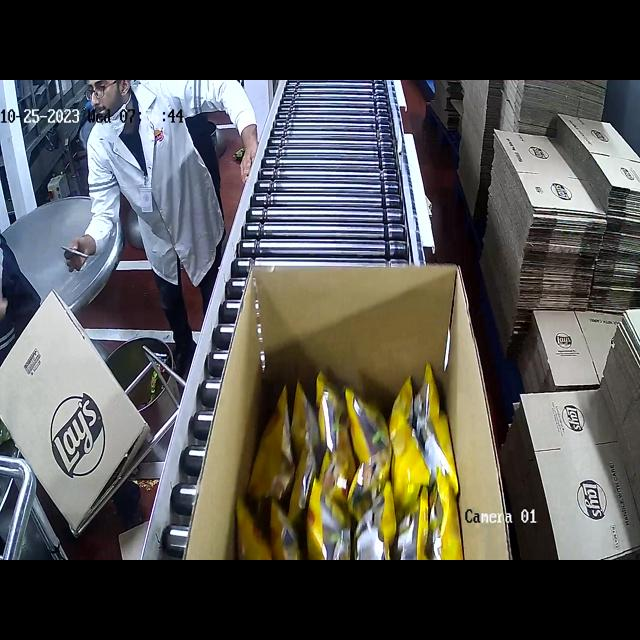salted: (267, 390, 460, 560)
